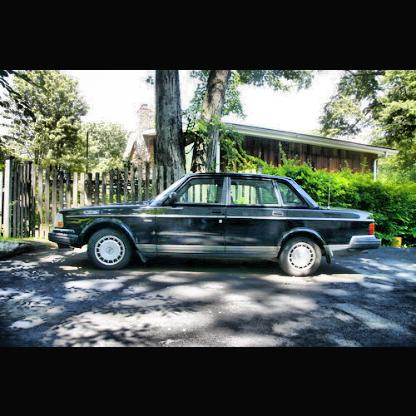Volvo 240 Sedan 1993: (47, 170, 379, 279)
